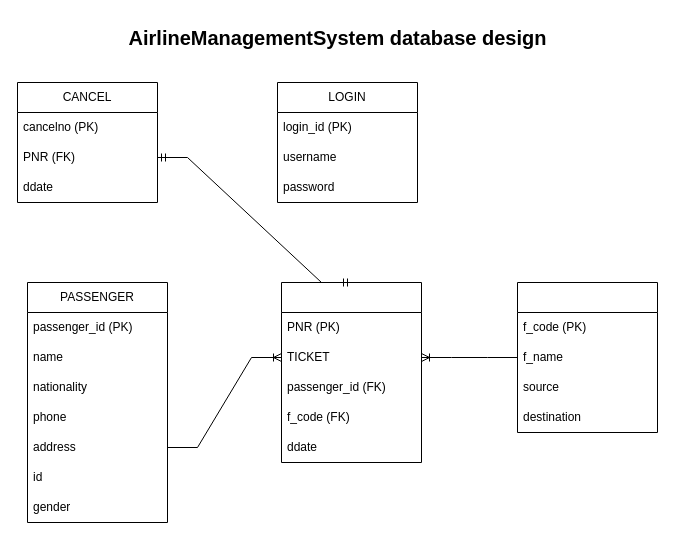
The diagram is 675 pixels wide and 540 high, and some of its shapes have lost their labels. Here are the shapes that lost their labels. From the top down, the box of each, then its label:
(280, 282, 422, 462): RESERVATION
(516, 282, 658, 432): FLIGHT
